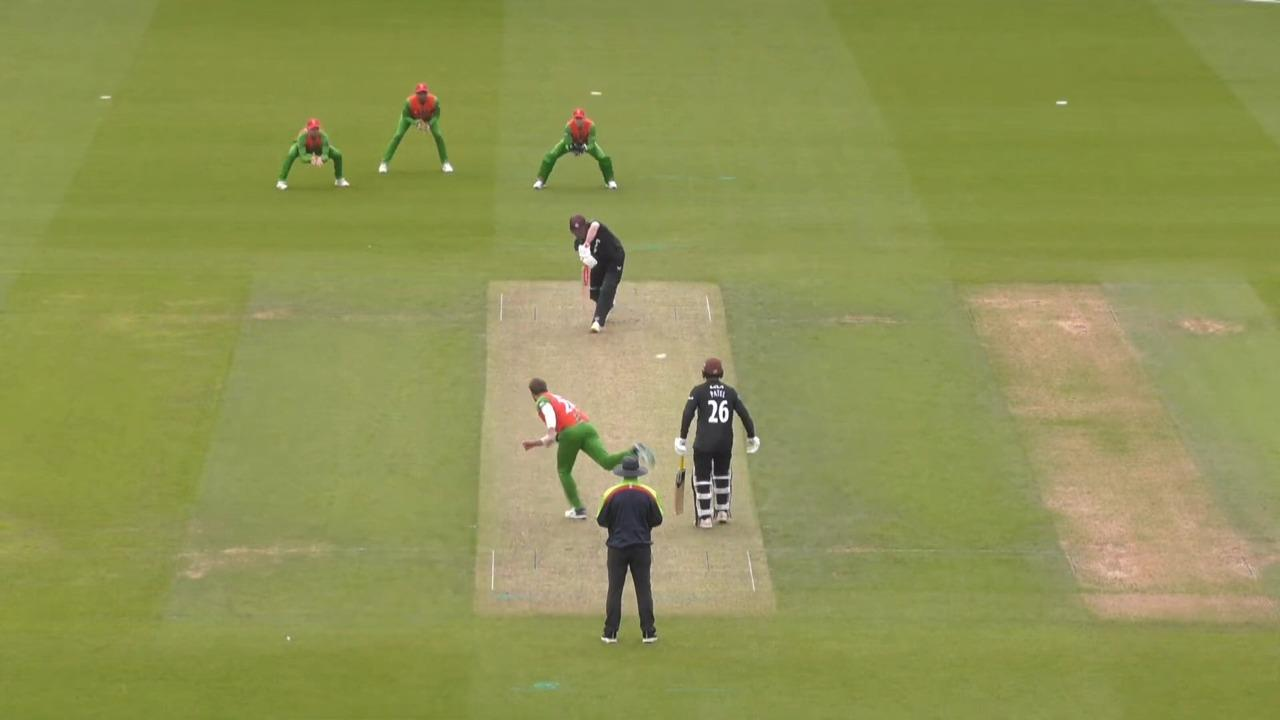sports ball: (656, 353, 666, 358)
